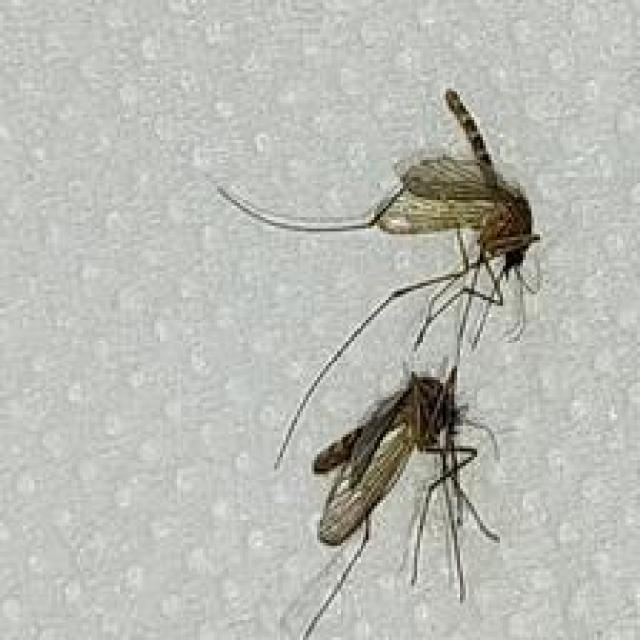Culex: (214, 85, 545, 640)
